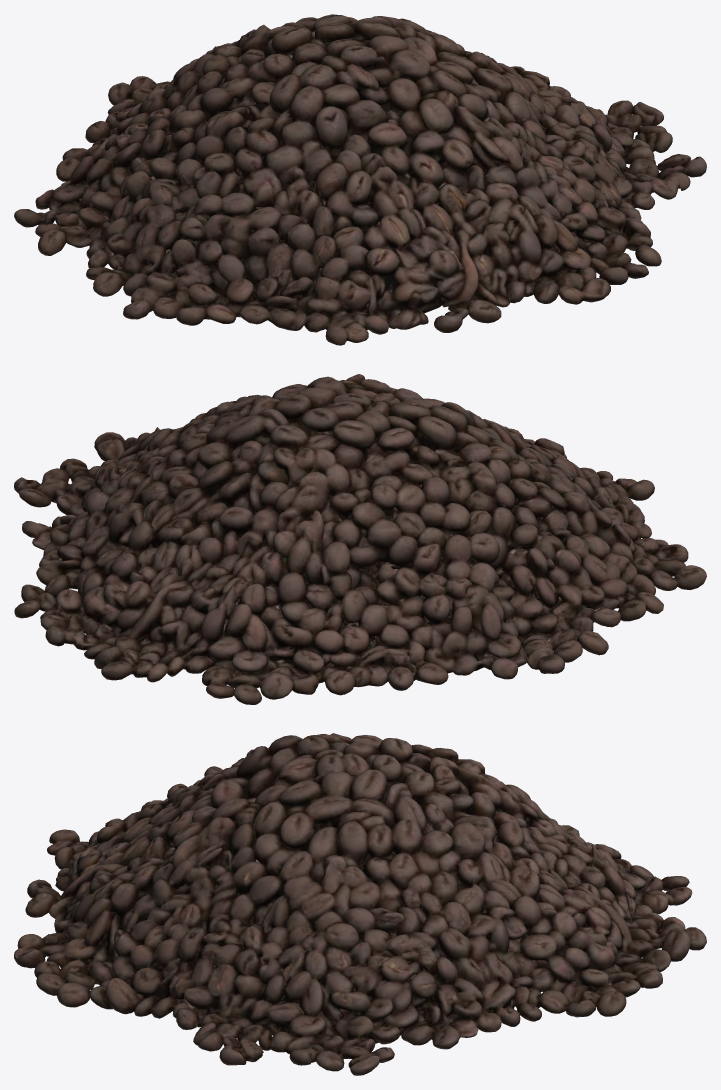
Rendered from pile.glb.
3 views of the same model, one above another, from view 1: azimuth 30°, elevation 25°; view 2: azimuth 150°, elevation 25°; view 3: azimuth 270°, elevation 25° (orthographic).
Size of the model in its own units: 1.71 by 0.4515 by 1.67.
1 material, 1 textured.
